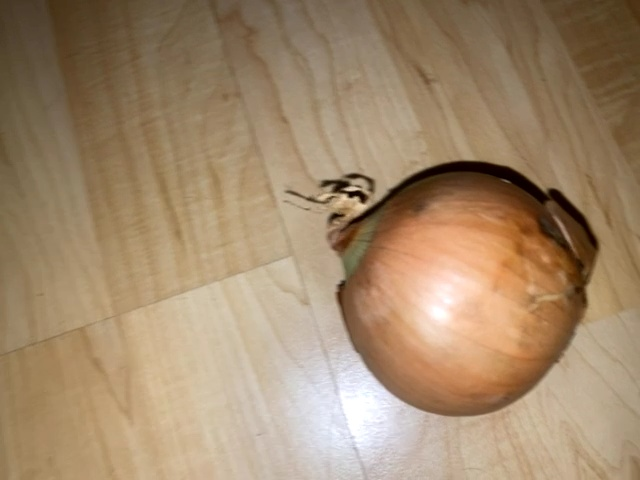onion: (275, 154, 599, 421)
